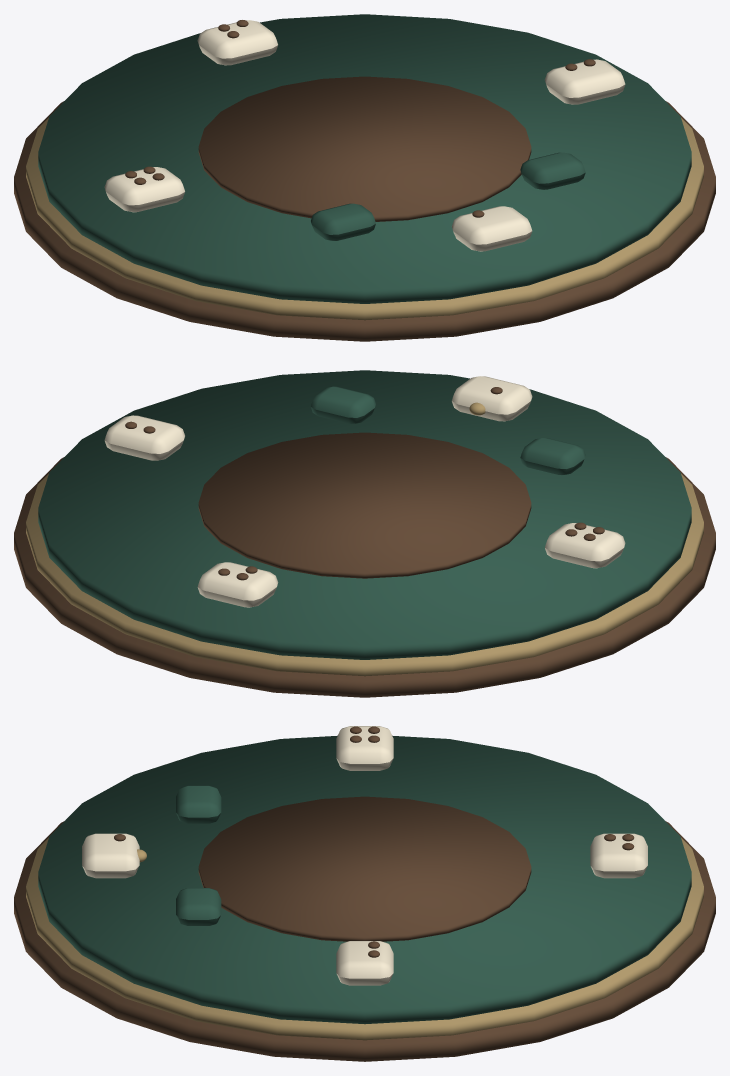
File: machine-console.glb
3 views of the same model, one above another, from view 1: azimuth 30°, elevation 25°; view 2: azimuth 150°, elevation 25°; view 3: azimuth 270°, elevation 25° (orthographic).
Visible parts, largest first — view 1: Console jade lid, Recessed dice well, Console perimeter seam, Console brass rim, Dice key 0, Dice key 1, Dice key 2, Dice key 3, Lift control.001, Lift control; view 2: Console jade lid, Recessed dice well, Console perimeter seam, Console brass rim, Dice key 1, Dice key 2, Dice key 0, Dice key 3, Lift control.001, Lift control; view 3: Console jade lid, Recessed dice well, Console perimeter seam, Console brass rim, Dice key 0, Dice key 1, Dice key 2, Dice key 3, Lift control, Lift control.001.
Part boxes in pixels (x1=…): Console jade lid: x1=38, y1=14, x2=691, y2=303; Recessed dice well: x1=198, y1=76, x2=531, y2=221; Console perimeter seam: x1=14, y1=101, x2=715, y2=341; Console brass rim: x1=26, y1=118, x2=703, y2=320; Dice key 0: x1=451, y1=206, x2=532, y2=251; Dice key 1: x1=545, y1=59, x2=625, y2=104; Dice key 2: x1=197, y1=20, x2=277, y2=65; Dice key 3: x1=104, y1=167, x2=184, y2=212; Lift control.001: x1=520, y1=152, x2=585, y2=189; Lift control: x1=311, y1=203, x2=375, y2=240; Console jade lid: x1=38, y1=370, x2=691, y2=659; Recessed dice well: x1=198, y1=432, x2=531, y2=578; Console perimeter seam: x1=14, y1=457, x2=715, y2=697; Console brass rim: x1=26, y1=474, x2=703, y2=676; Dice key 1: x1=104, y1=415, x2=184, y2=460; Dice key 2: x1=197, y1=562, x2=278, y2=607; Dice key 0: x1=452, y1=376, x2=532, y2=421; Dice key 3: x1=545, y1=523, x2=625, y2=568; Lift control.001: x1=310, y1=386, x2=375, y2=423; Lift control: x1=520, y1=438, x2=585, y2=475; Console jade lid: x1=38, y1=735, x2=691, y2=1024; Recessed dice well: x1=198, y1=796, x2=531, y2=941; Console perimeter seam: x1=14, y1=821, x2=715, y2=1061; Console brass rim: x1=26, y1=838, x2=703, y2=1040; Dice key 0: x1=82, y1=833, x2=139, y2=878; Dice key 1: x1=336, y1=941, x2=393, y2=985; Dice key 2: x1=590, y1=833, x2=647, y2=878; Dice key 3: x1=336, y1=726, x2=393, y2=770; Lift control: x1=176, y1=785, x2=221, y2=823; Lift control.001: x1=176, y1=888, x2=221, y2=925.
Bounding box in the file's own units: 0.232 × 0.027 × 0.232.
